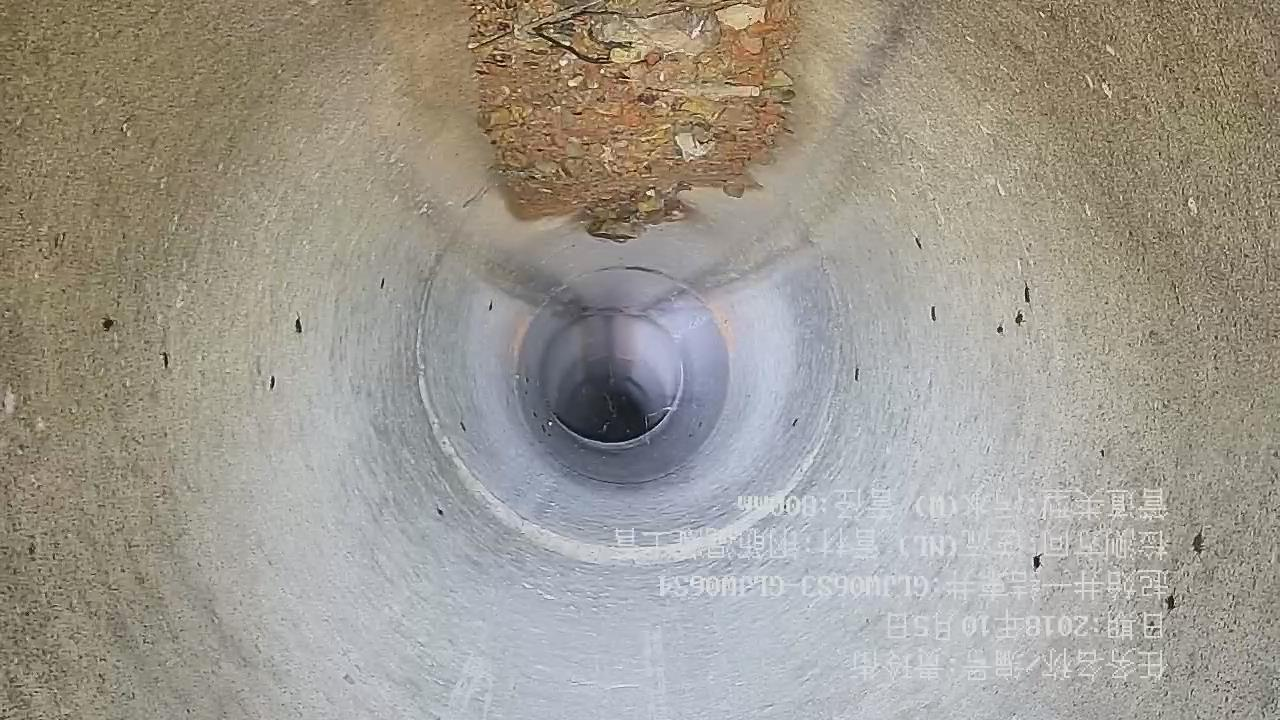CJ: (467, 1, 799, 242)
CKTJ: (415, 280, 826, 565), (553, 364, 685, 450)
